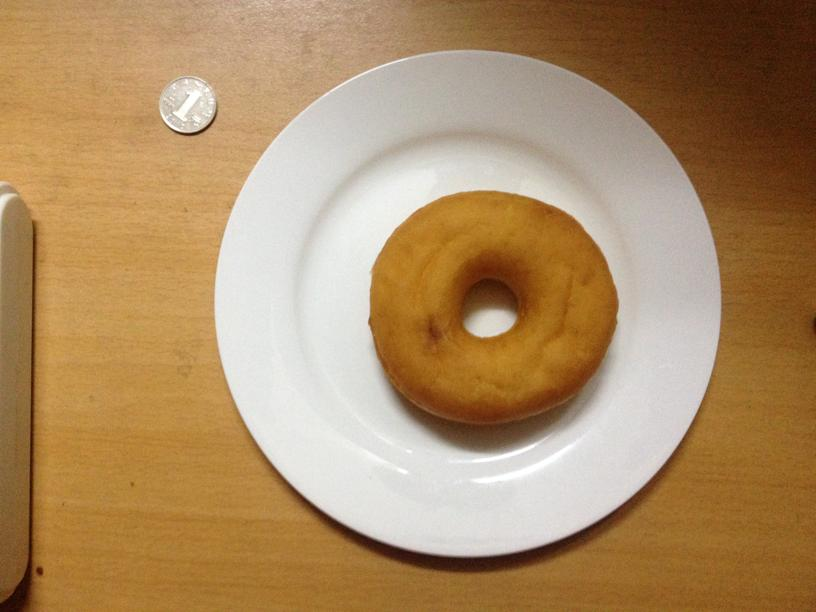coin: (154, 78, 218, 133)
doughnut: (366, 190, 620, 429)
